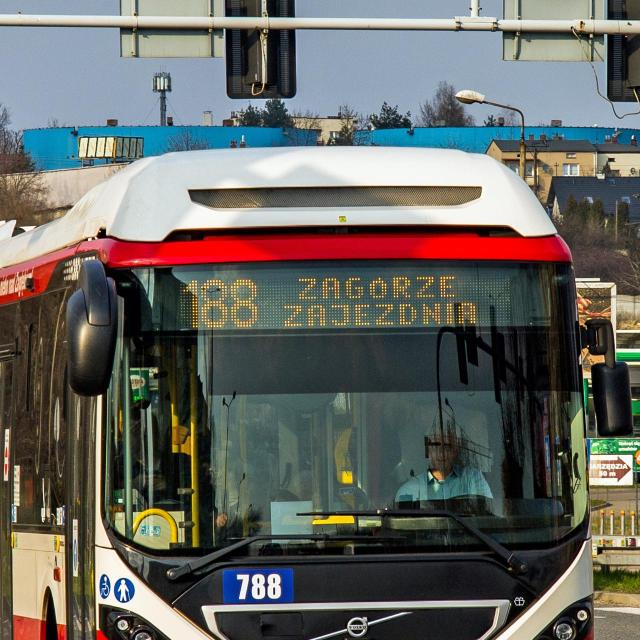Bus: (0, 147, 589, 640)
